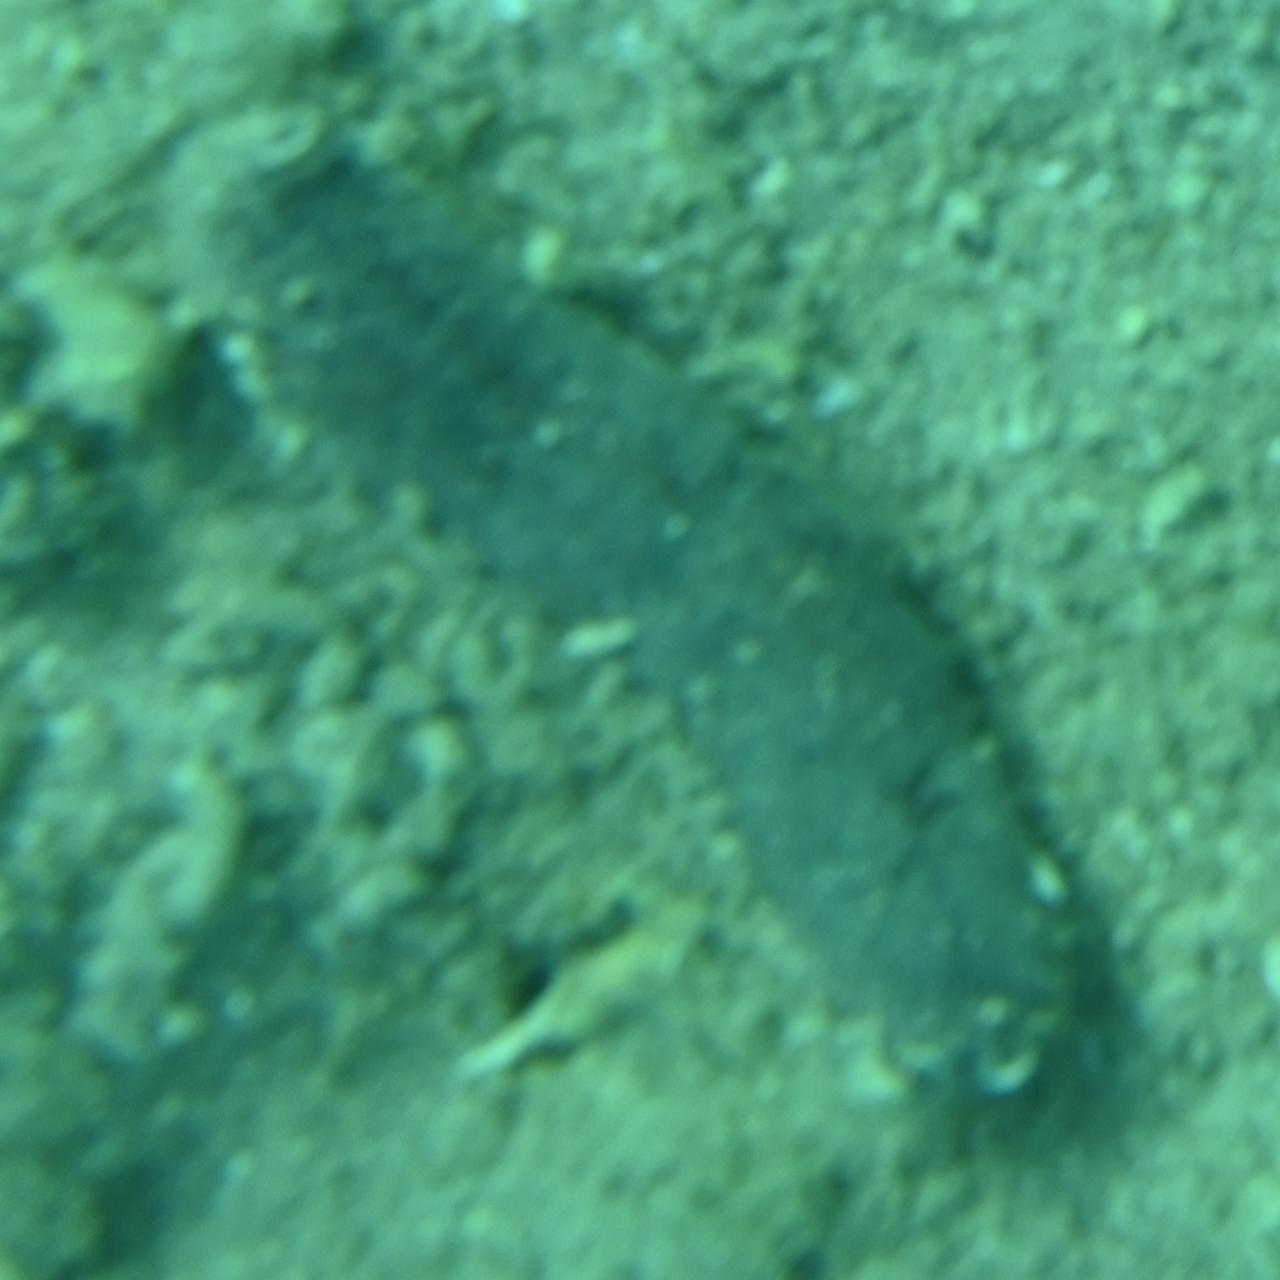Holothuria tubulosa: (156, 95, 1124, 1185)
